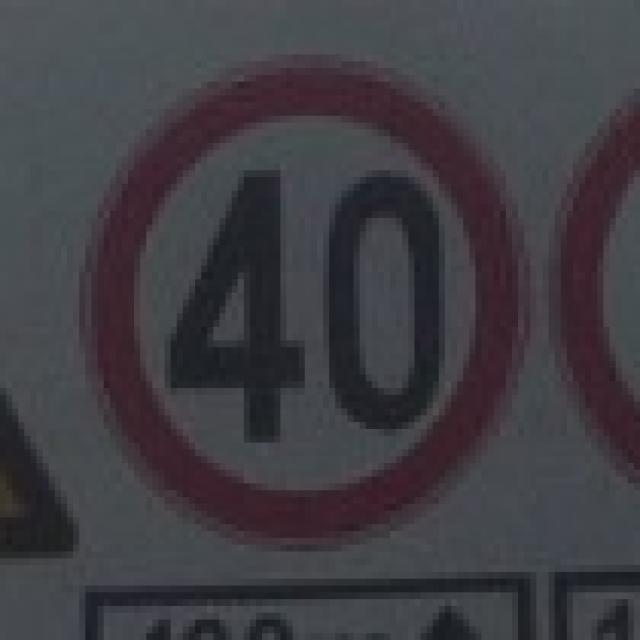Speed Limit -40-: (162, 161, 449, 446)
